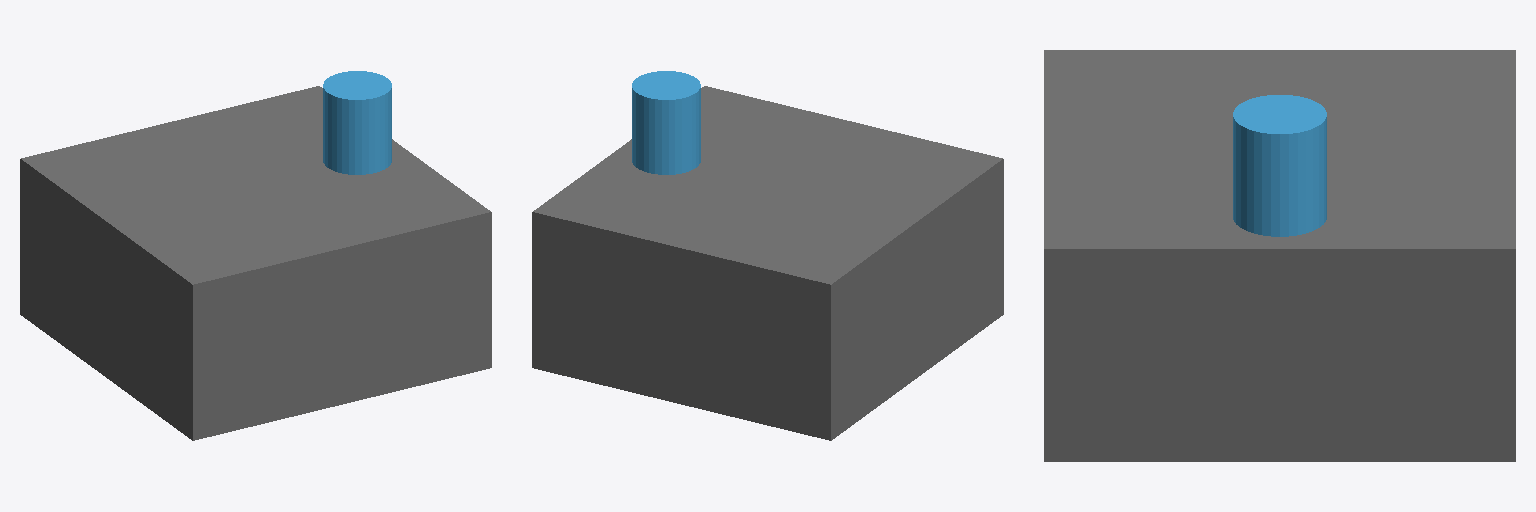
URDF robot description (shadowhand):
<?xml version="1.0"?>
<!-- Simplified Shadow Hand URDF for SAPIEN simulation -->
<!-- This is a template - actual joint values and meshes need to be updated -->
<robot name="shadowhand">
  
  <!-- Base/Palm -->
  <link name="palm">
    <visual>
      <geometry>
        <box size="0.1 0.1 0.05"/>
      </geometry>
      <material name="grey">
        <color rgba="0.5 0.5 0.5 1"/>
      </material>
    </visual>
    <collision>
      <geometry>
        <box size="0.1 0.1 0.05"/>
      </geometry>
    </collision>
    <inertial>
      <mass value="0.5"/>
      <inertia ixx="0.001" ixy="0" ixz="0" iyy="0.001" iyz="0" izz="0.001"/>
    </inertial>
  </link>
  
  <!-- Thumb -->
  <link name="thumb_base">
    <visual>
      <geometry>
        <cylinder radius="0.01" length="0.04"/>
      </geometry>
    </visual>
    <collision>
      <geometry>
        <cylinder radius="0.01" length="0.04"/>
      </geometry>
    </collision>
    <inertial>
      <mass value="0.01"/>
      <inertia ixx="0.0001" ixy="0" ixz="0" iyy="0.0001" iyz="0" izz="0.0001"/>
    </inertial>
  </link>
  
  <joint name="THJ5" type="revolute">
    <parent link="palm"/>
    <child link="thumb_base"/>
    <origin xyz="0.034 0 0.029" rpy="0 0 0"/>
    <axis xyz="0 0 1"/>
    <limit lower="-1.047" upper="1.047" effort="2" velocity="2"/>
  </joint>
  
  <!-- Add more links and joints for complete hand -->
  <!-- This is a simplified template - full Shadow Hand has 20+ DOF -->
  
</robot>

--- Render facts (derived) ---
Views: 3 orthographic renders of the robot side by side, from view 1: azimuth 30°, elevation 25°; view 2: azimuth 150°, elevation 25°; view 3: azimuth 270°, elevation 25°.
Robot: shadowhand — 2 links, 1 joints (1 revolute); root link palm; default pose: every joint at zero.
Visible links, largest first — view 1: palm, thumb_base; view 2: palm, thumb_base; view 3: palm, thumb_base.
Boxes of the visible links, <box> form: palm: <box>20,86,491,440</box>; thumb_base: <box>323,71,391,174</box>; palm: <box>532,86,1003,440</box>; thumb_base: <box>632,71,700,174</box>; palm: <box>1044,50,1515,461</box>; thumb_base: <box>1233,95,1326,236</box>.
Bounding box of the posed robot: 0.1 × 0.1 × 0.074 m (x, y, z).
Geometry: primitives only (box / cylinder / sphere), no mesh files.
